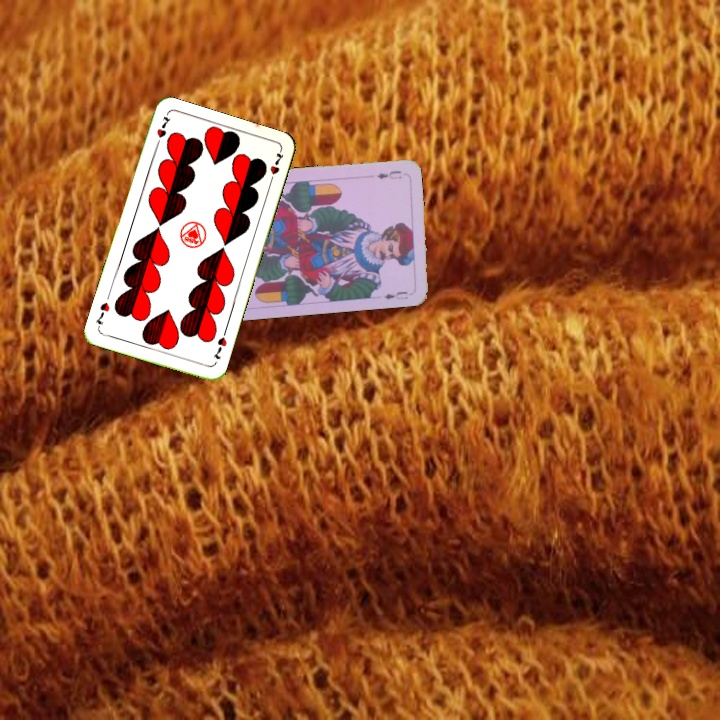EU: (373, 166, 404, 182)
H7: (152, 112, 173, 150), (209, 333, 230, 362)
